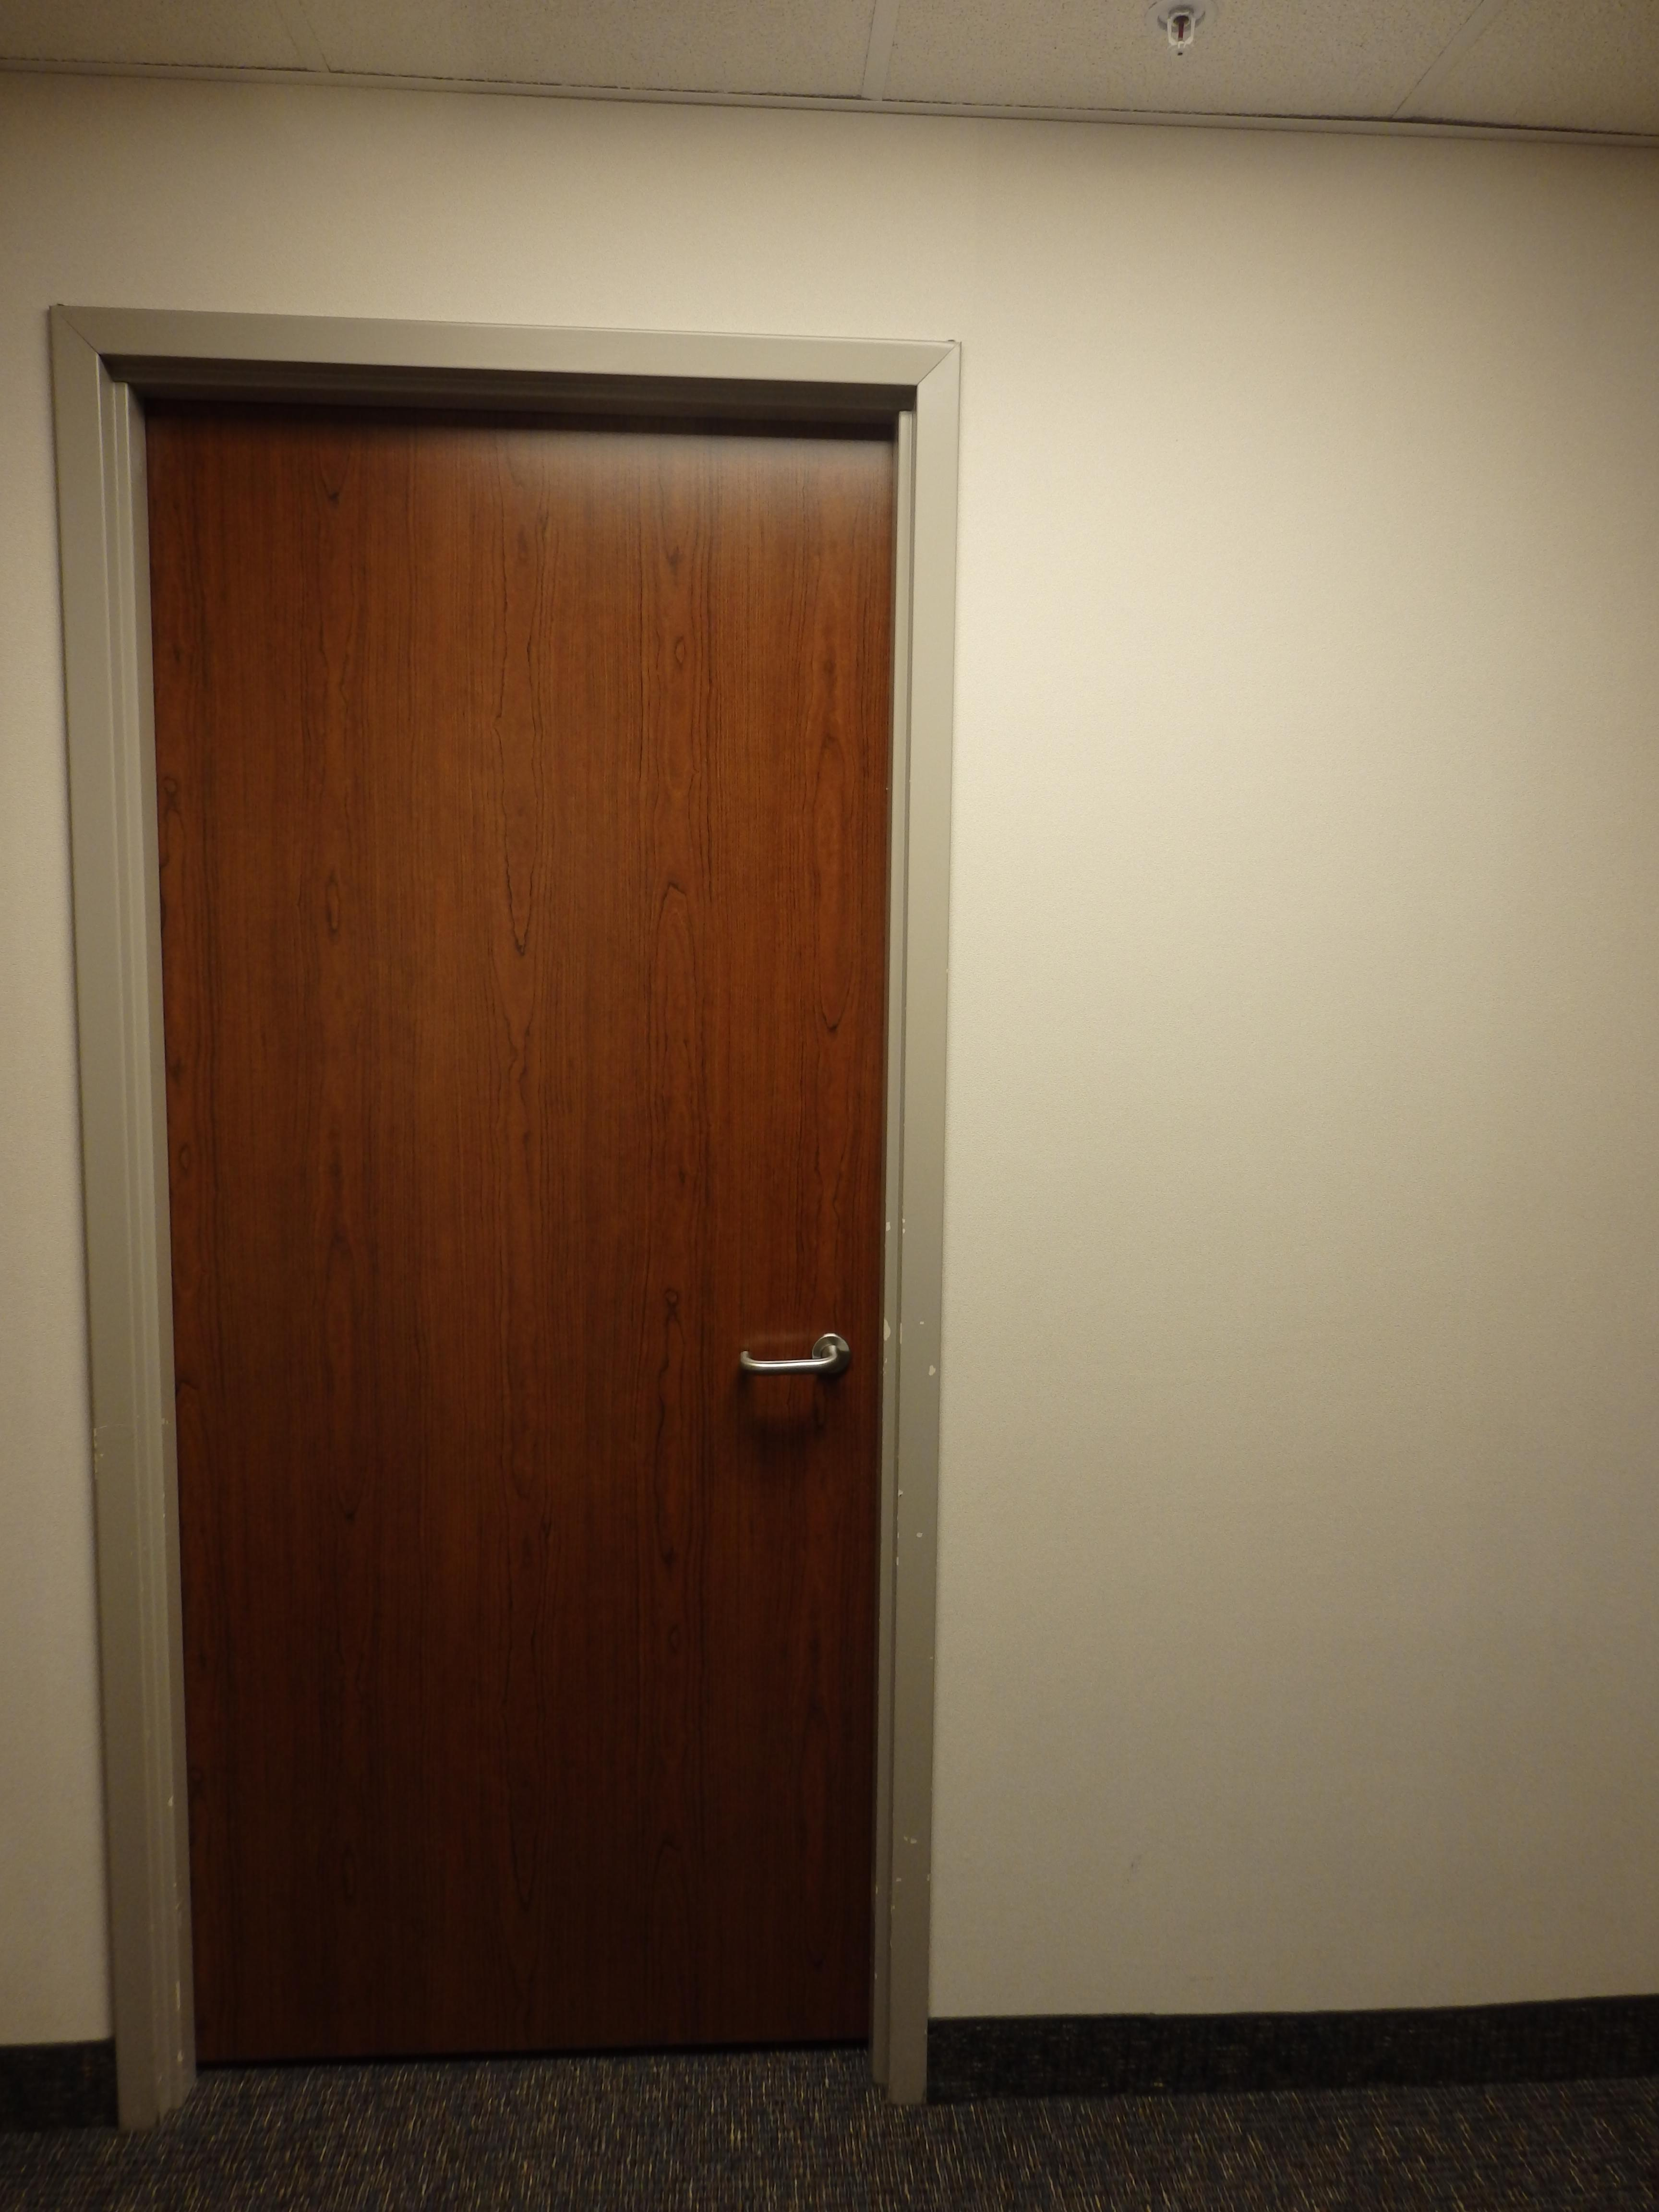door: (141, 397, 927, 2106)
